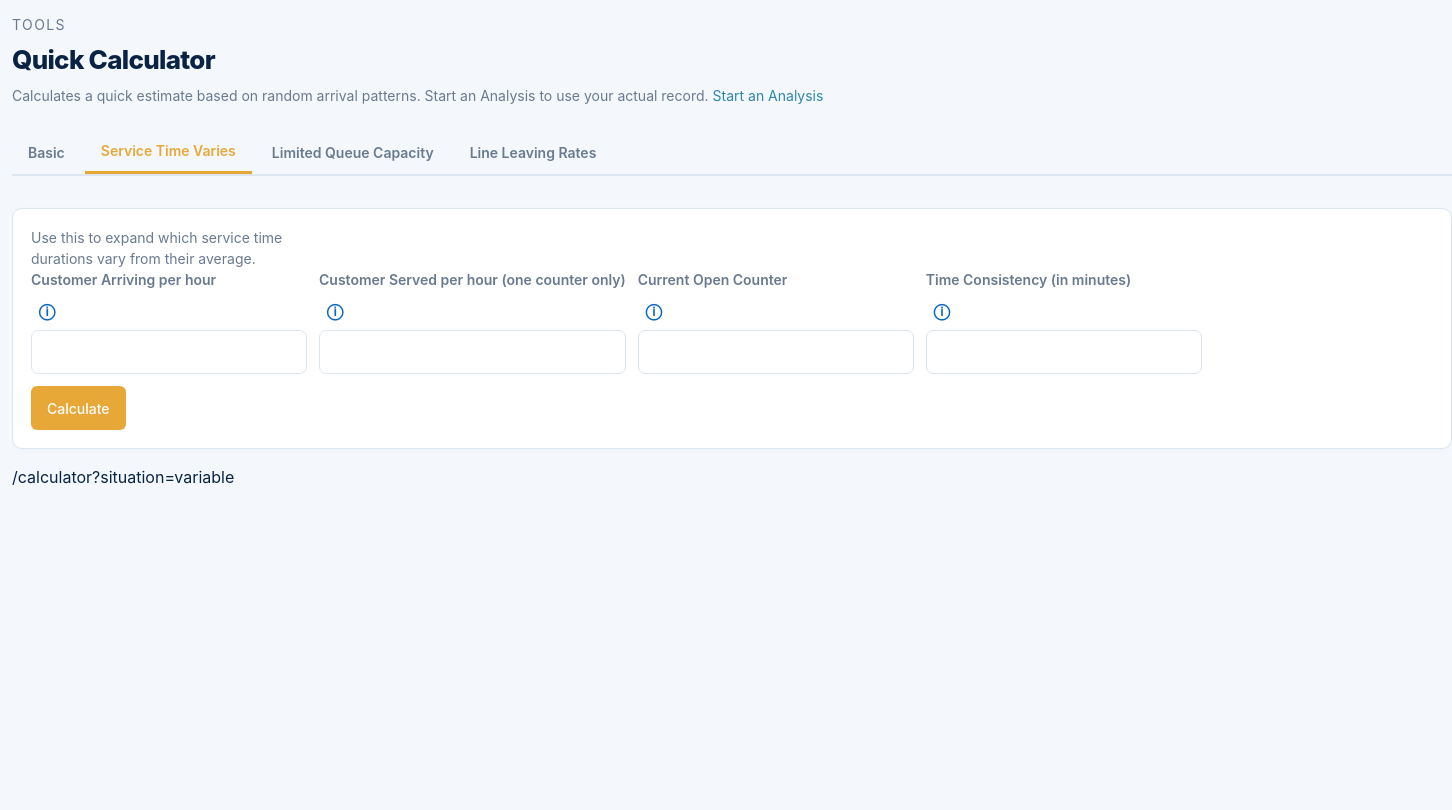
it: Quick calculator (U9 + B2) › keeps the ordinary wait meaning for variable service
In the number field labelled "Customer Arriving per hour": (169, 352) [31, 330, 307, 374], type "2"
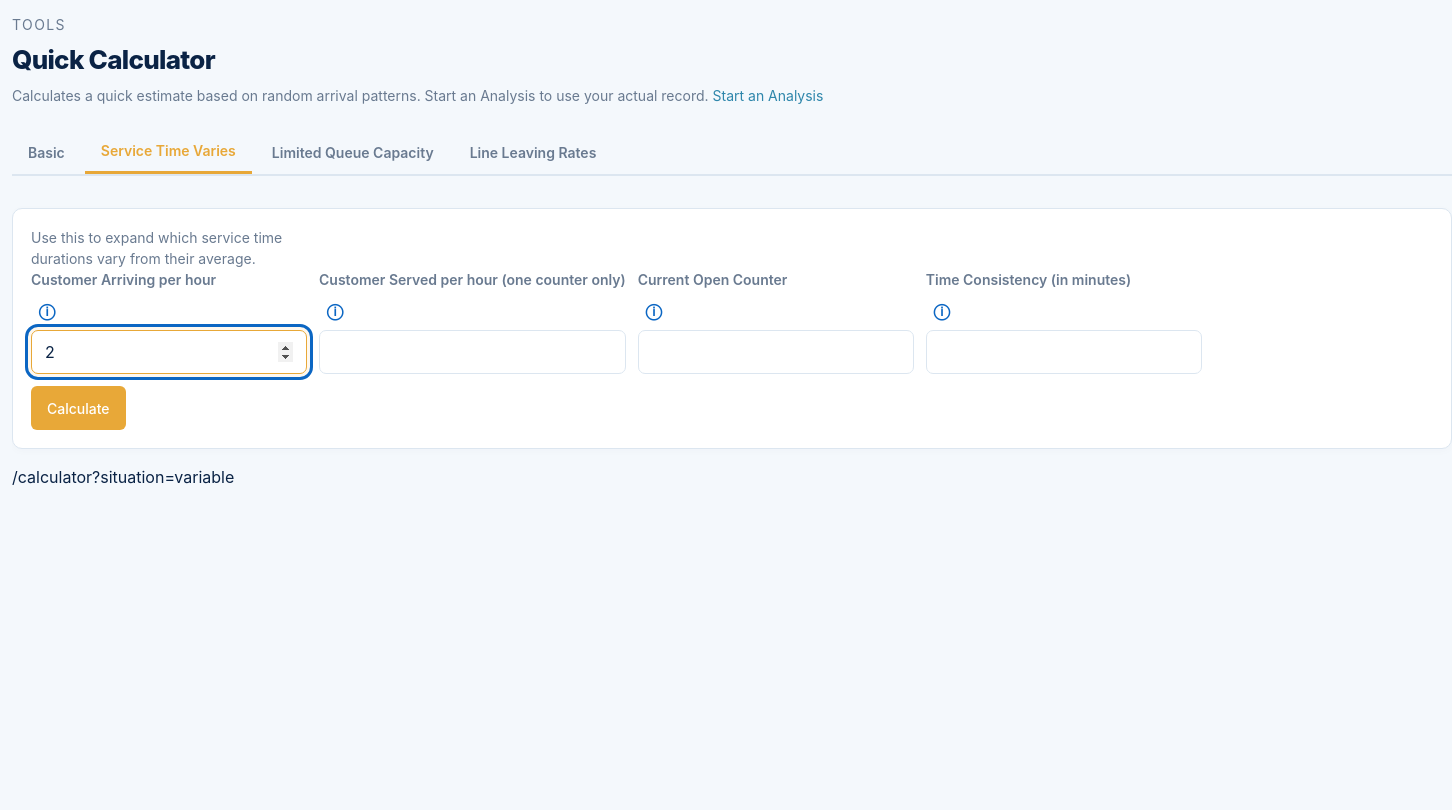
In the number field labelled "Customer Served per hour (one counter only)": (472, 352) [319, 330, 626, 374], type "4"
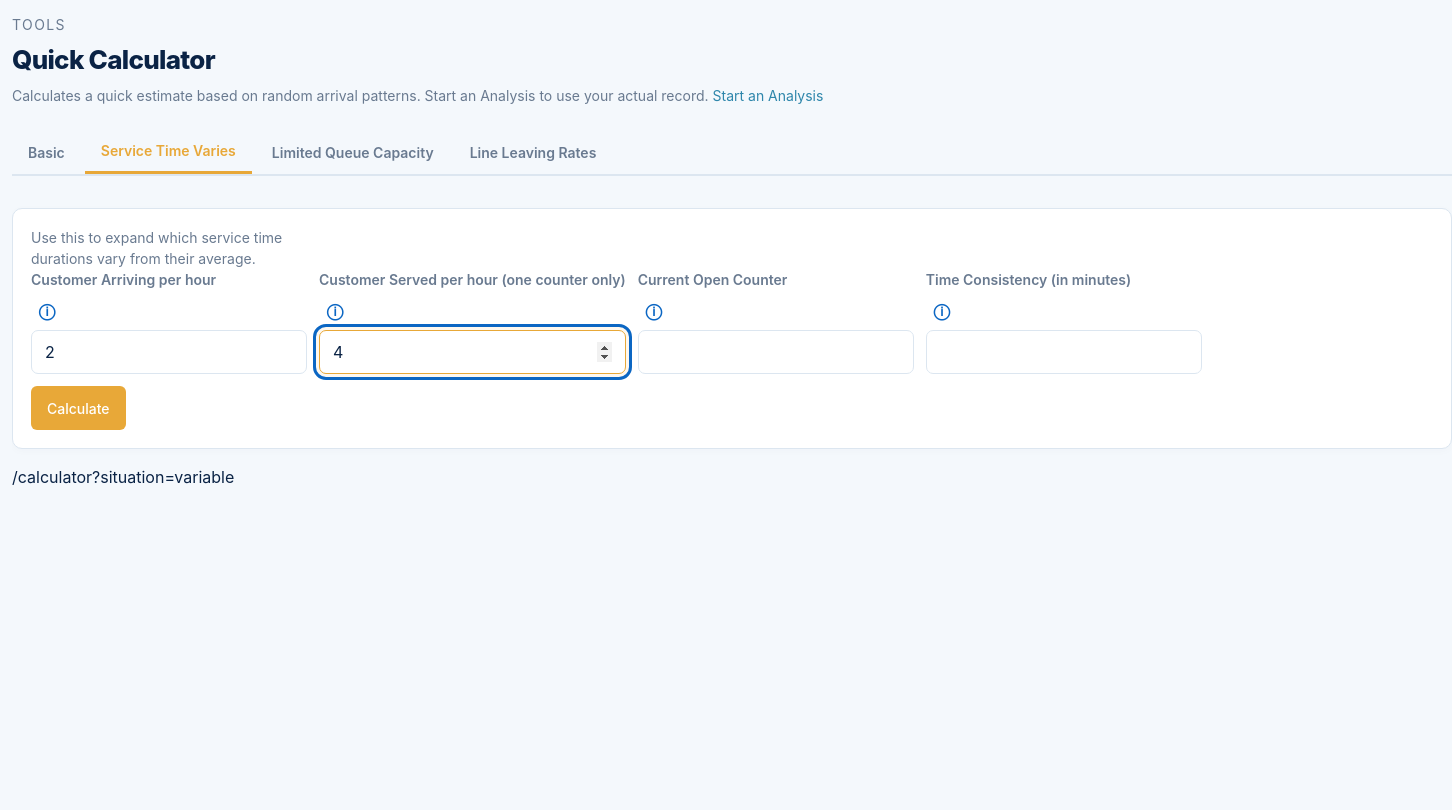
In the number field labelled "Current Open Counter": (776, 352) [638, 330, 914, 374], type "1"
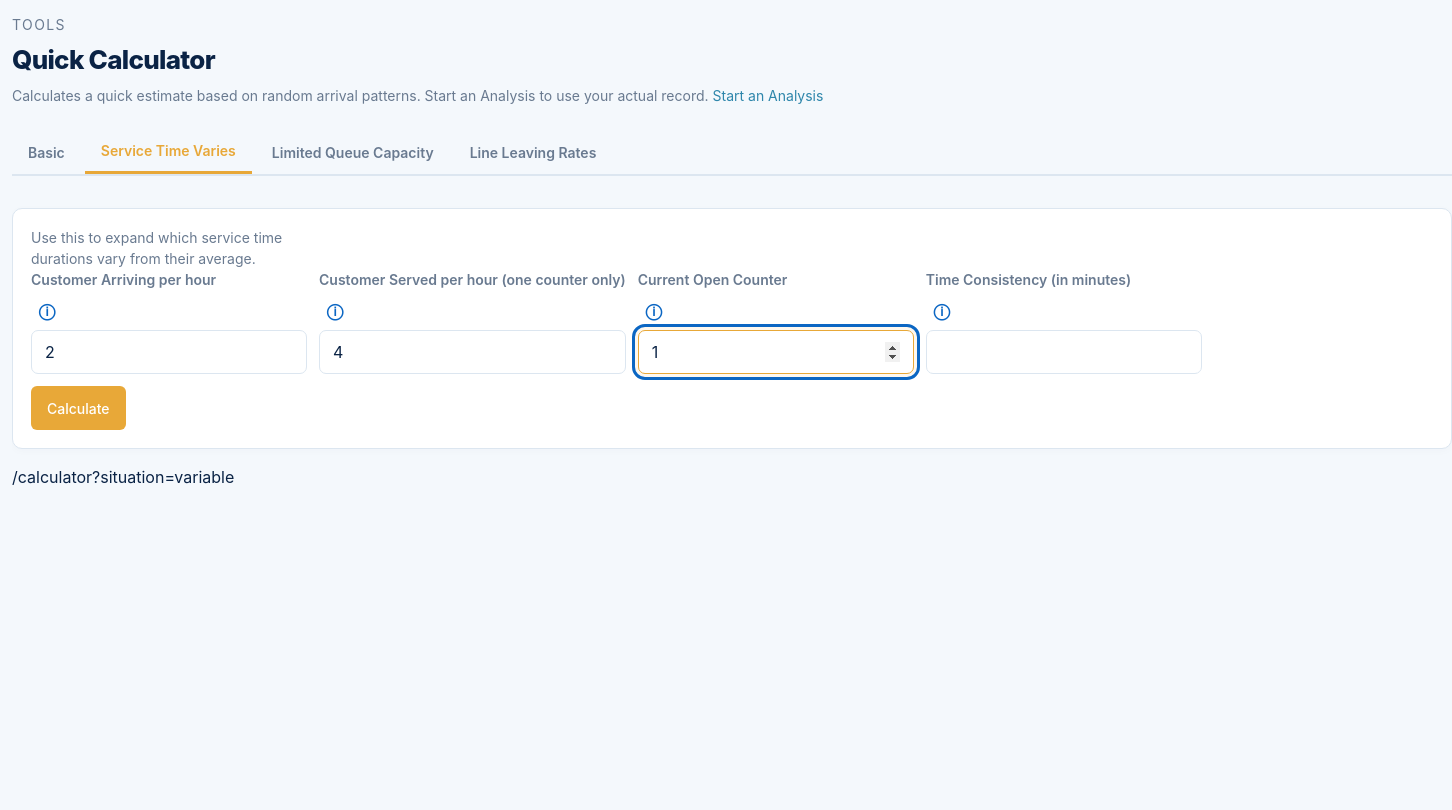
In the number field labelled "Time Consistency (in minutes)": (1064, 352) [926, 330, 1202, 374], type "0"
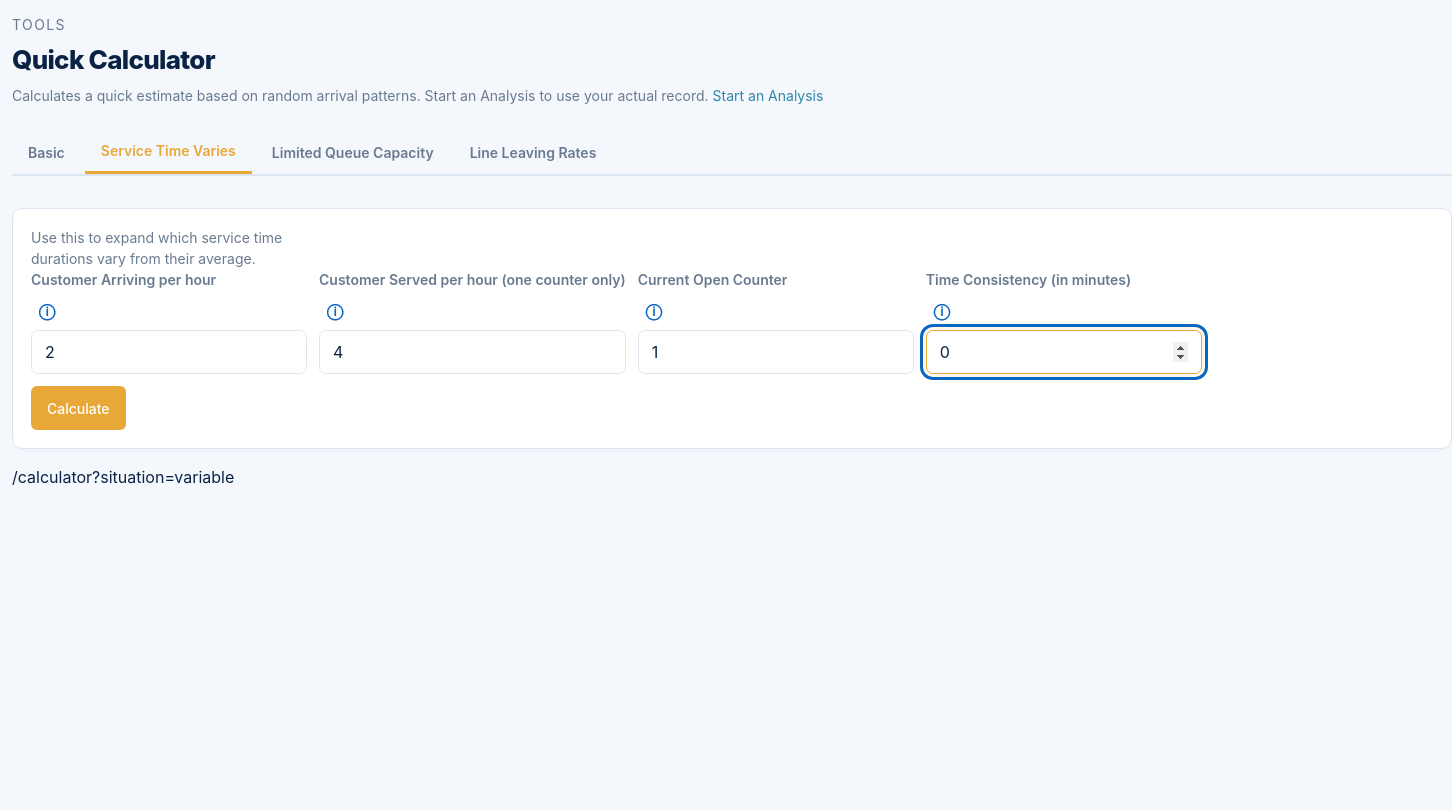
Click the button "Calculate": (78, 408) [31, 386, 126, 430]
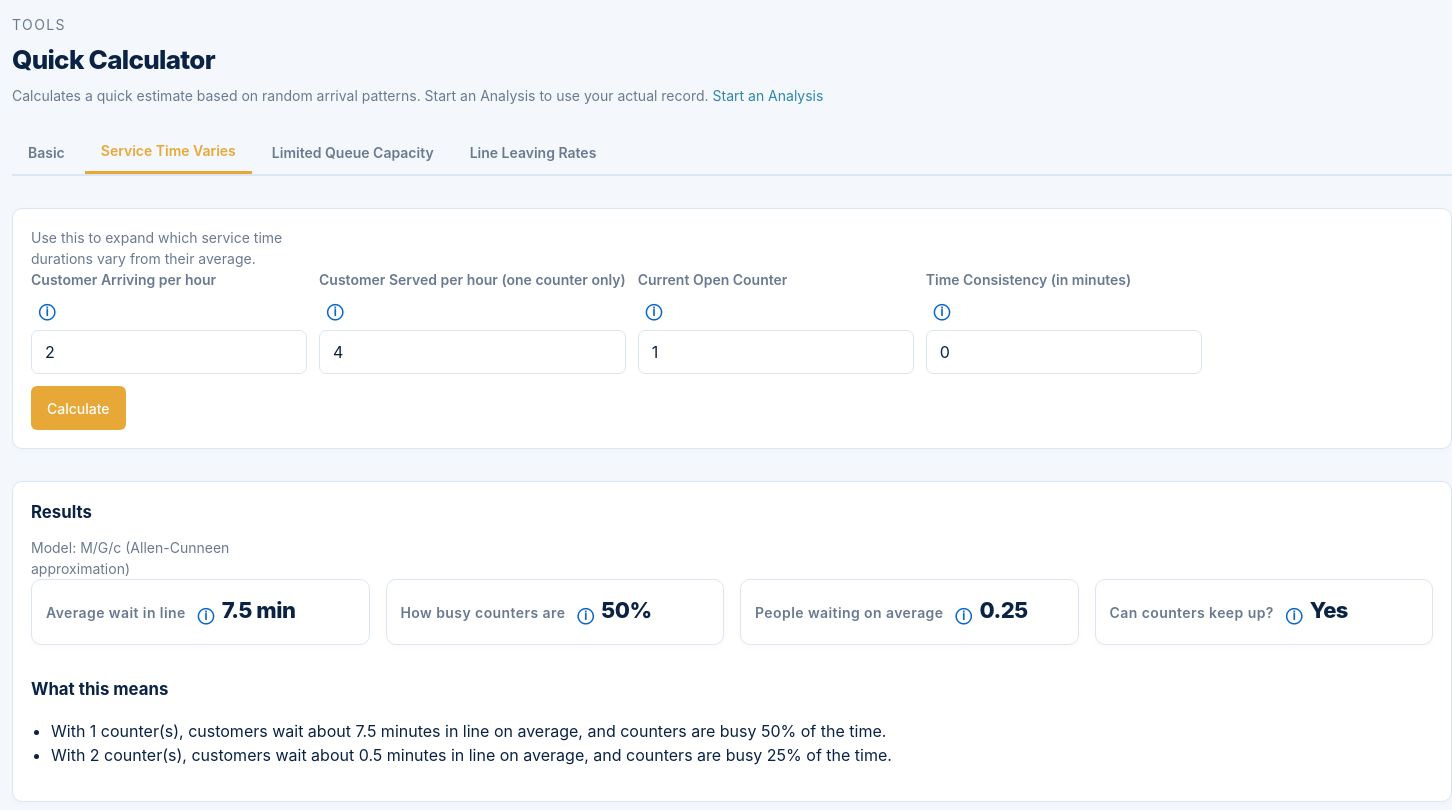
Expected: the list with test id "calculator-meaning" does not show "workload", [51, 720, 892, 764]
Expected: the element with test id "calculator-wait" shows "Average wait in line", [46, 604, 186, 621]
Expected: the element with test id "calculator-wait" shows "7.5 min", [222, 597, 295, 623]
